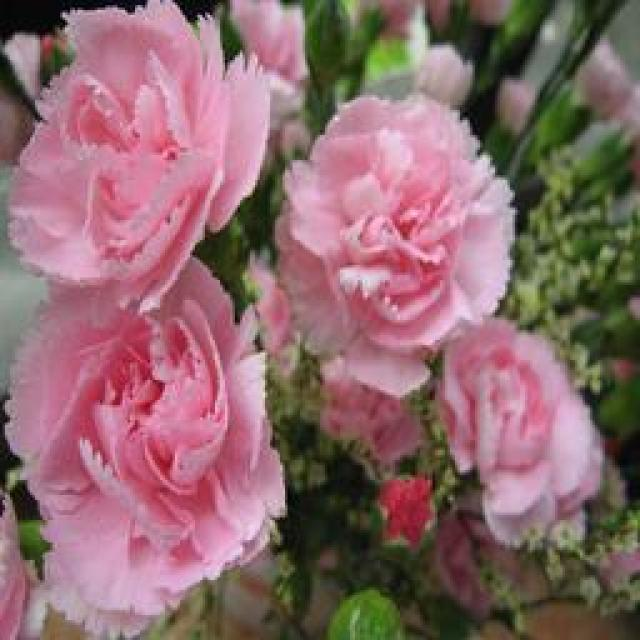carnation: (265, 71, 532, 413)
